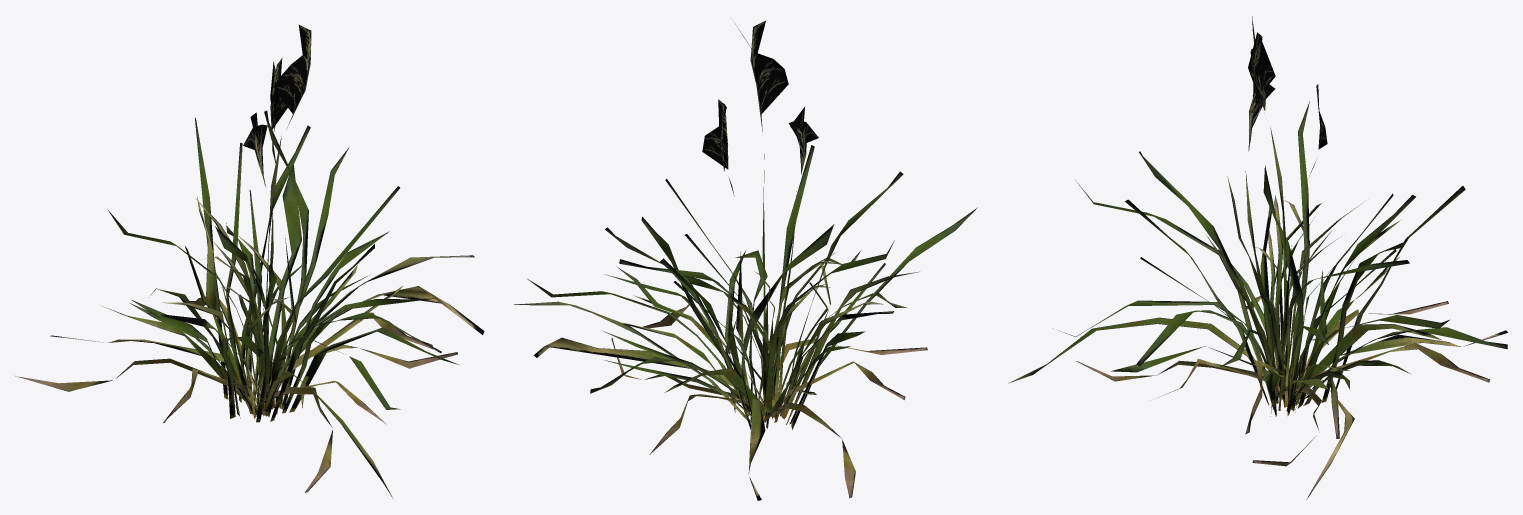
File: SM_Grass_05.gltf
3 views of the same model, side by side, from view 1: azimuth 30°, elevation 25°; view 2: azimuth 150°, elevation 25°; view 3: azimuth 270°, elevation 25° (orthographic). The views are drawn at different scales.
Parts seen in each view (by area): view 1: SM_Grass_05; view 2: SM_Grass_05; view 3: SM_Grass_05.
Part boxes in pixels (x1,y1,x2,y2): SM_Grass_05: [15, 25, 484, 497]; SM_Grass_05: [514, 20, 977, 500]; SM_Grass_05: [1008, 16, 1507, 499].
Size of the model in its own units: 0.188 by 0.1777 by 0.2006.
Materials: 1 (1 with a texture image).
